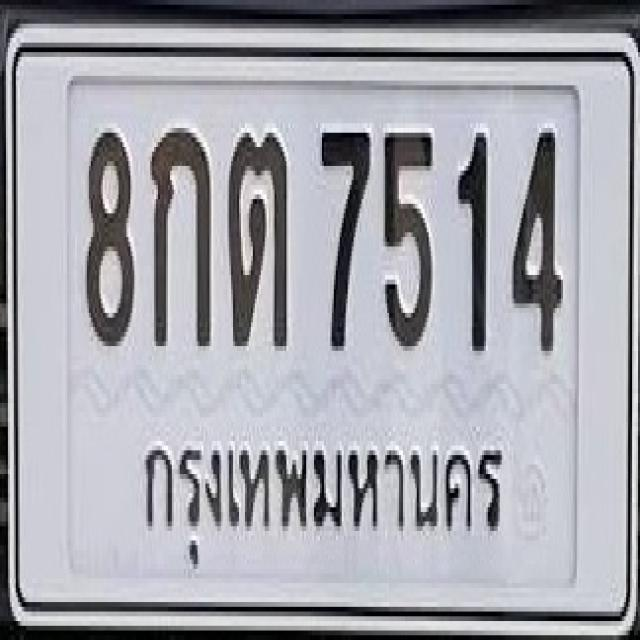license_plate: (5, 14, 639, 640)
